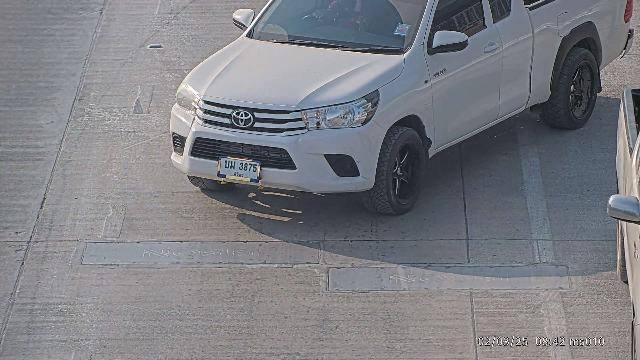pickup-truck: (168, 0, 634, 216)
